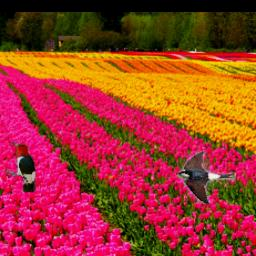Swallow: (176, 150, 235, 204)
Woodpecker: (6, 142, 37, 193)
